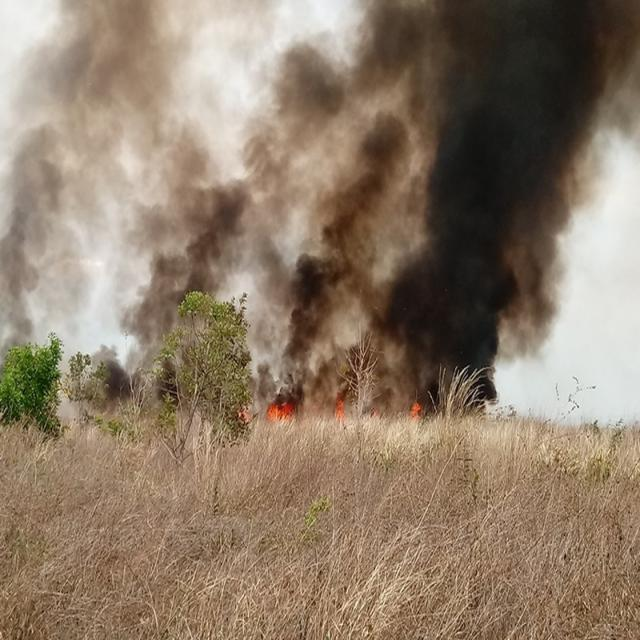Fire: (260, 400, 300, 420), (404, 399, 422, 418), (332, 398, 344, 418)
